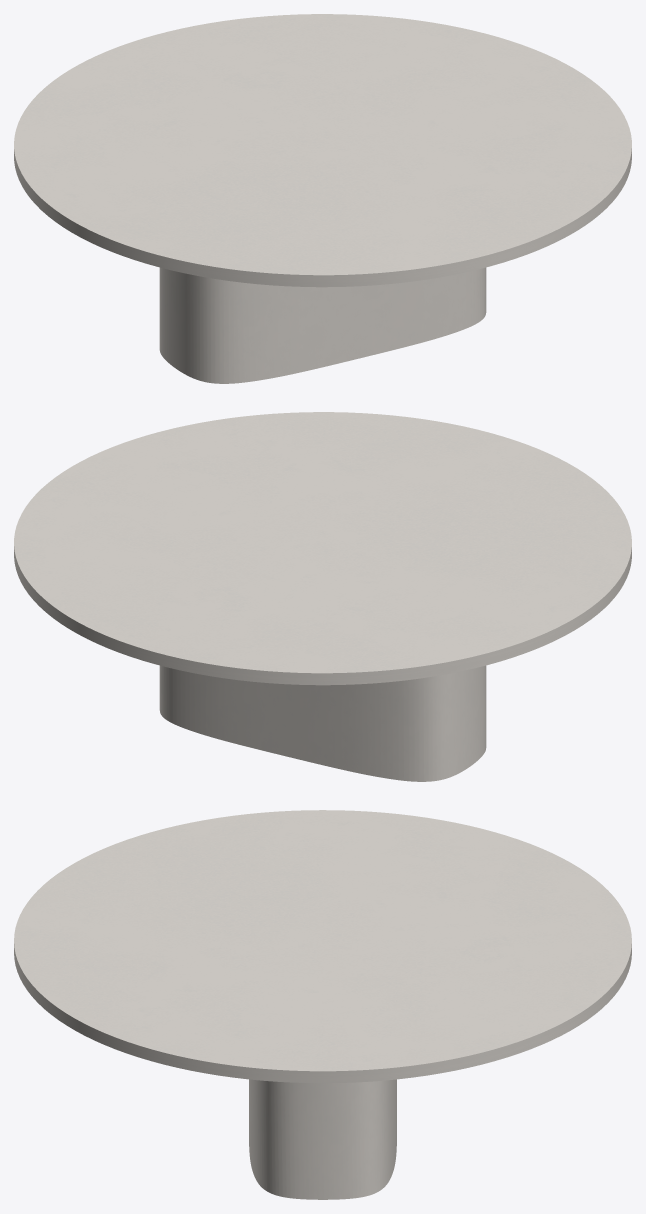
The model's file is pearlwhite_round_standard_fixed.glb.
The picture shows the model from 3 angles, top to bottom: view 1: azimuth 30°, elevation 25°; view 2: azimuth 150°, elevation 25°; view 3: azimuth 270°, elevation 25°; orthographic projection.
Parts seen in each view (by area): view 1: tabletop_round_standard.018, tableleg_fixed.015; view 2: tabletop_round_standard.018, tableleg_fixed.015; view 3: tabletop_round_standard.018, tableleg_fixed.015.
Part boxes in pixels (x1,y1,x2,y2): tabletop_round_standard.018: (14,14,631,287); tableleg_fixed.015: (159,267,486,383); tabletop_round_standard.018: (14,412,631,685); tableleg_fixed.015: (159,665,486,781); tabletop_round_standard.018: (14,810,631,1083); tableleg_fixed.015: (249,1079,396,1199).
Size of the model in its own units: 7.5 by 2.5 by 7.5.
1 material, 1 textured.
